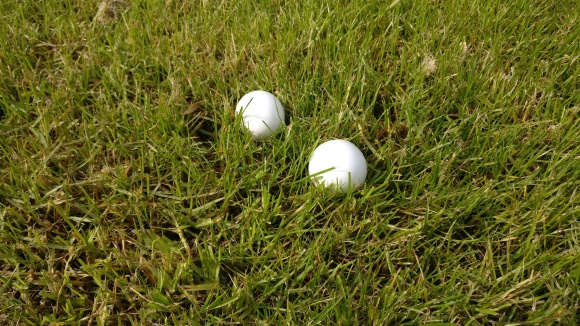egg: (308, 139, 367, 195), (235, 89, 285, 143)
